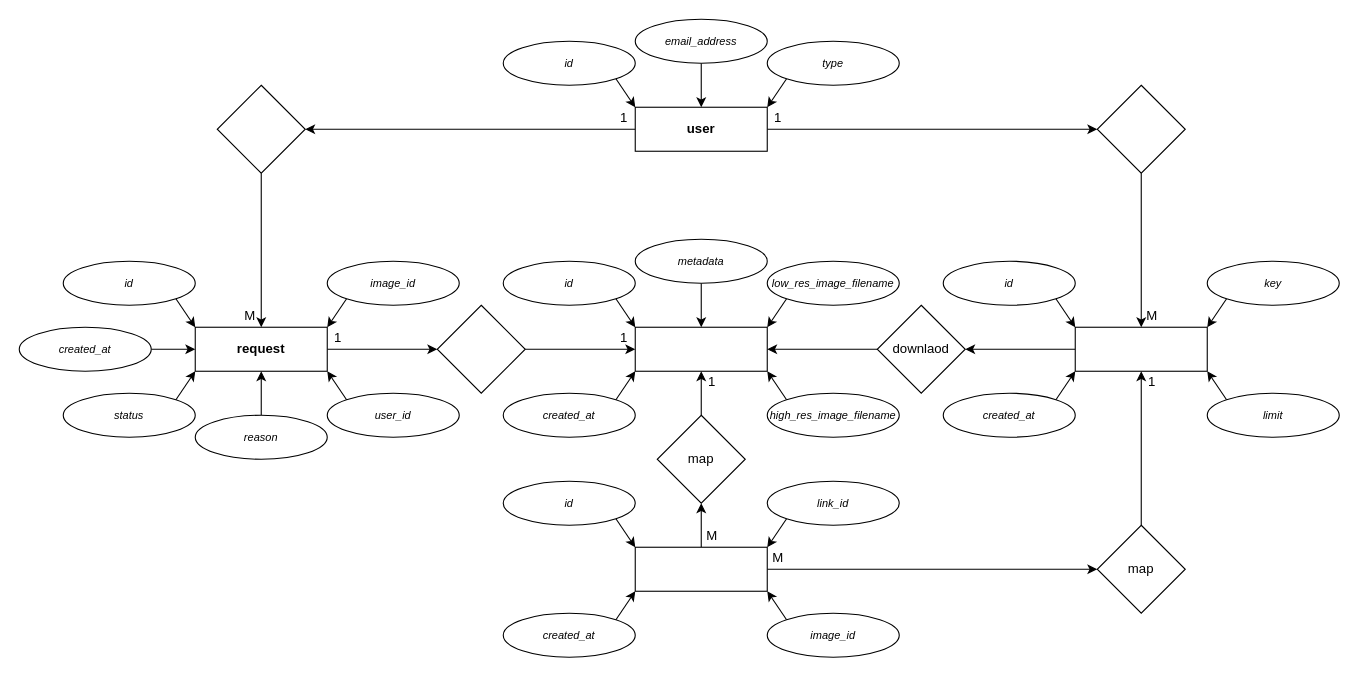
This 1359x677 diagram has some shape labels left out. The centre of each missing label's shape, as x and y in pixels:
create or update: (260,128)
guard: (480,348)
image: (700,348)
image_link: (700,568)
link: (1140,348)
use or generate: (1140,128)
